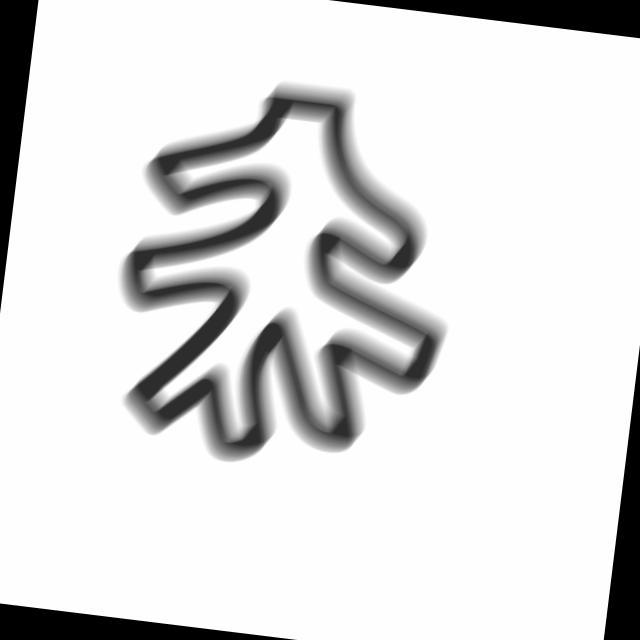coral: (89, 55, 485, 493)
